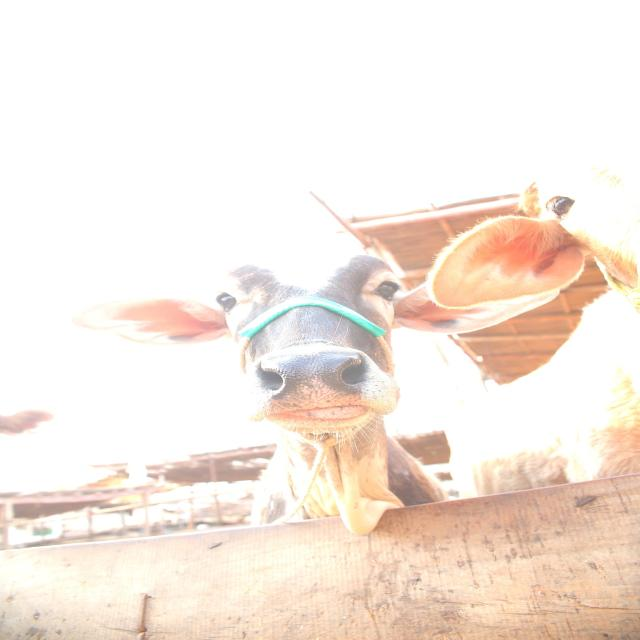muzzles: (238, 346, 386, 418)
